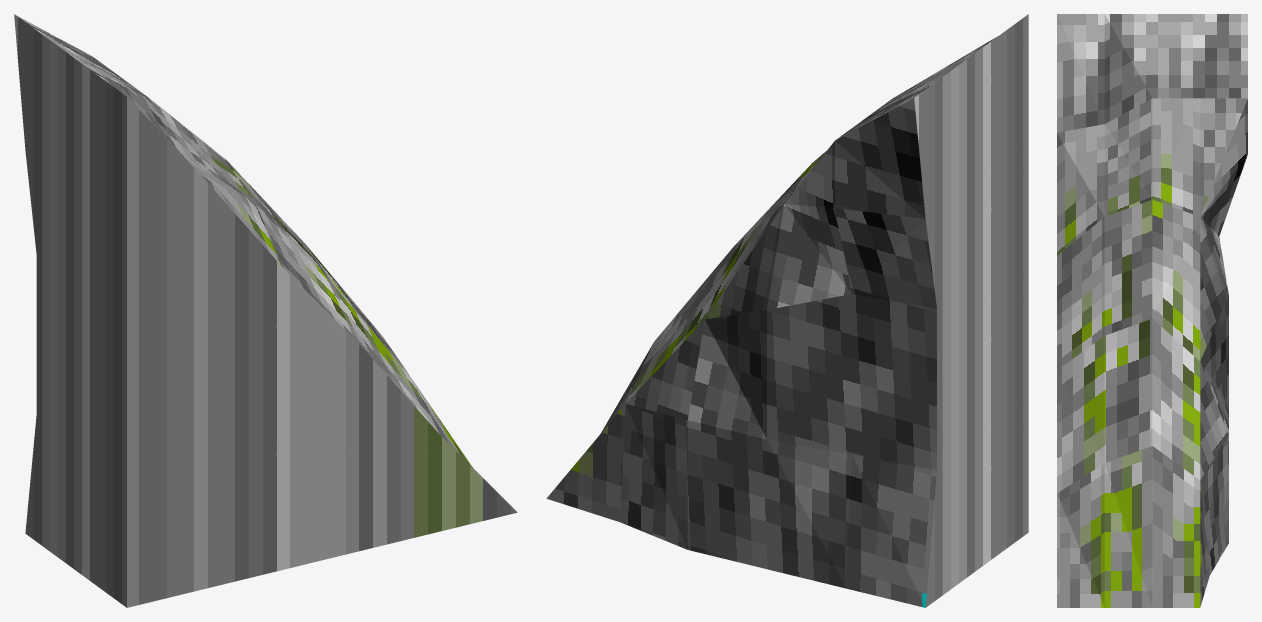
The model's file is cave_694x00.gltf.
The picture shows the model from 3 angles, left to right: view 1: azimuth 30°, elevation 25°; view 2: azimuth 150°, elevation 25°; view 3: azimuth 270°, elevation 25°; orthographic projection. The views are drawn at different scales.
Visible parts, largest first — view 1: cave_694x00; view 2: cave_694x00; view 3: cave_694x00.
Part boxes in pixels (x1,y1,x2,y2): cave_694x00: (14, 14, 517, 607); cave_694x00: (546, 14, 1028, 607); cave_694x00: (1057, 14, 1247, 607).
Bounding box in the file's own units: 4 × 5 × 2.
1 material, 1 textured.
